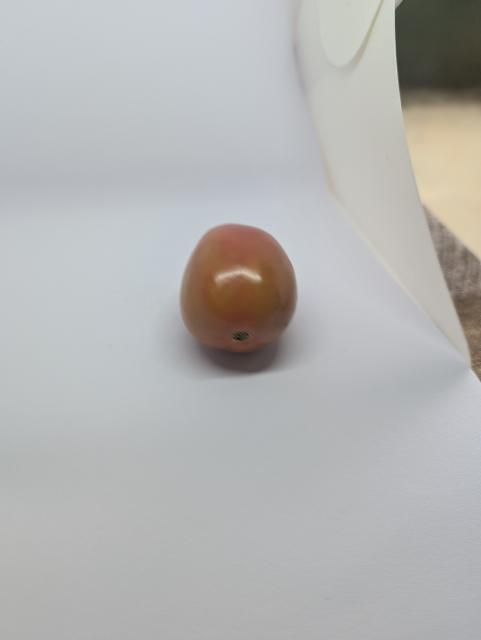turning: (166, 216, 307, 368)
